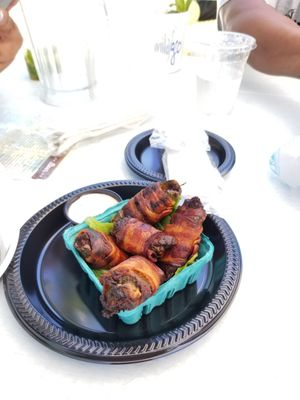burger: (31, 113, 153, 181)
pizza: (180, 31, 256, 118)
